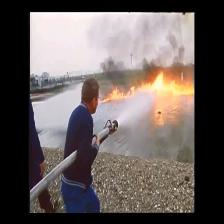fire: (110, 78, 197, 100)
